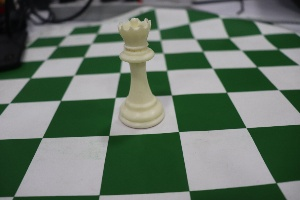white_queen: (104, 8, 167, 137)
